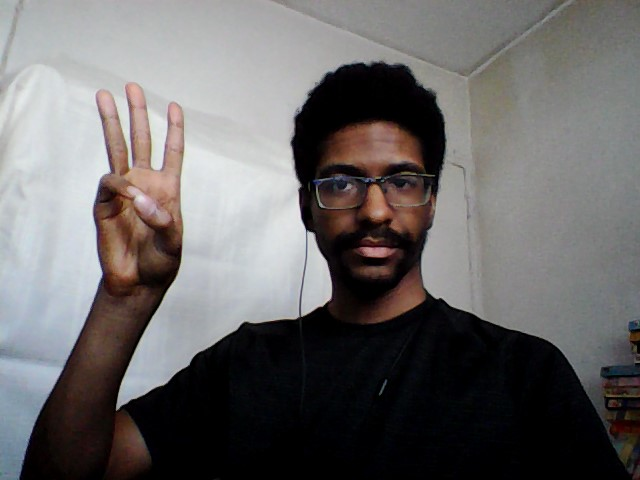w: (83, 75, 189, 296)
